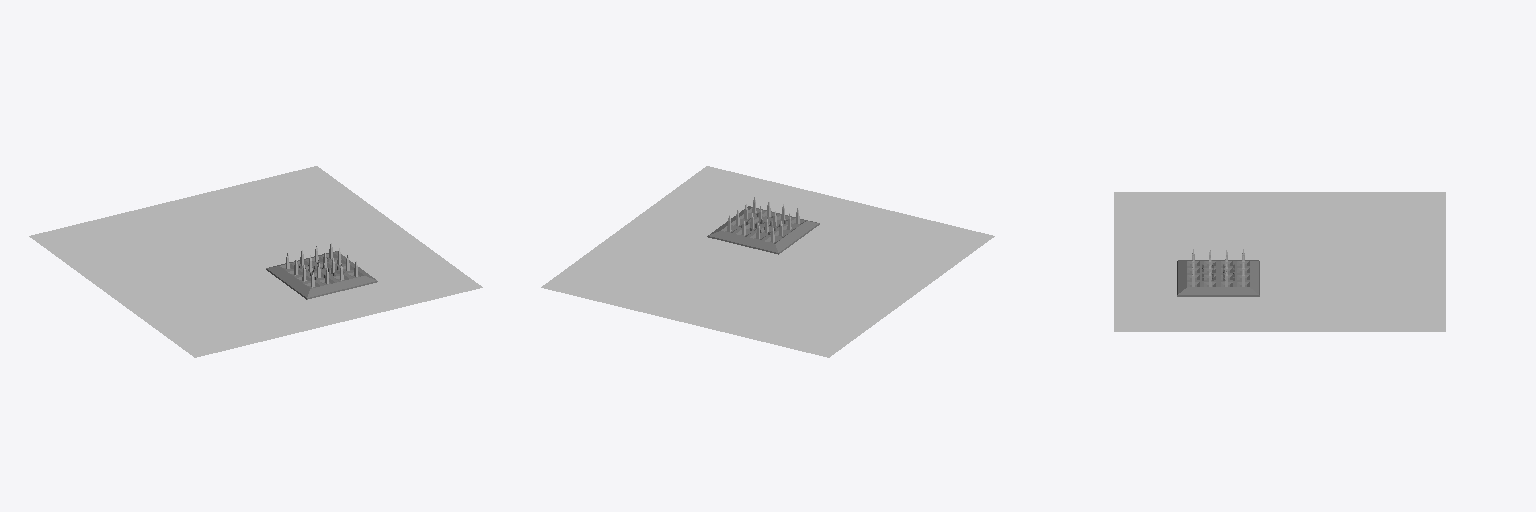
The picture shows the model from 3 angles: view 1: azimuth 30°, elevation 25°; view 2: azimuth 150°, elevation 25°; view 3: azimuth 270°, elevation 25°; orthographic projection.
Visible parts, largest first — view 1: Plane, Spiketrap_mainbody_Main_Body, Spiketrap_spikes_Spikes; view 2: Plane, Spiketrap_mainbody_Main_Body, Spiketrap_spikes_Spikes; view 3: Plane, Spiketrap_mainbody_Main_Body.
Boxes of the visible parts, x1=… form: Plane: x1=29, y1=166, x2=482, y2=357; Spiketrap_mainbody_Main_Body: x1=266, y1=251, x2=377, y2=299; Spiketrap_spikes_Spikes: x1=286, y1=243, x2=357, y2=287; Plane: x1=541, y1=166, x2=994, y2=357; Spiketrap_mainbody_Main_Body: x1=707, y1=206, x2=819, y2=254; Spiketrap_spikes_Spikes: x1=727, y1=197, x2=799, y2=242; Plane: x1=1114, y1=192, x2=1445, y2=331; Spiketrap_mainbody_Main_Body: x1=1177, y1=260, x2=1259, y2=296.
Bounding box in the file's own units: 15.96 × 1.48 × 15.96.